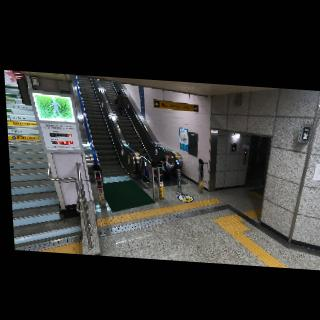anomaly: (152, 156, 177, 183)
normal: (113, 90, 129, 121)
